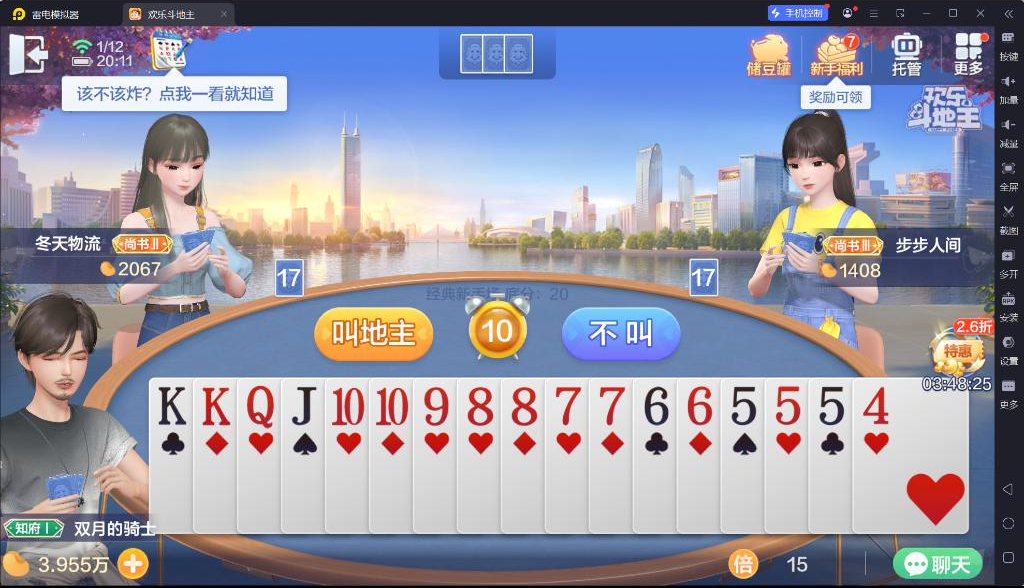J: (286, 383, 319, 427)
K: (197, 383, 233, 429), (156, 383, 189, 429)
Q: (242, 384, 277, 431)
eight: (463, 384, 497, 427), (508, 384, 541, 427)
five: (769, 381, 805, 427), (725, 383, 758, 428), (815, 383, 847, 428)
four: (860, 383, 893, 427)
nine: (416, 386, 452, 428)
seven: (550, 382, 584, 428), (595, 383, 628, 427)
six: (681, 381, 715, 427), (638, 383, 671, 428)
ten: (374, 384, 412, 427), (328, 385, 365, 427)
